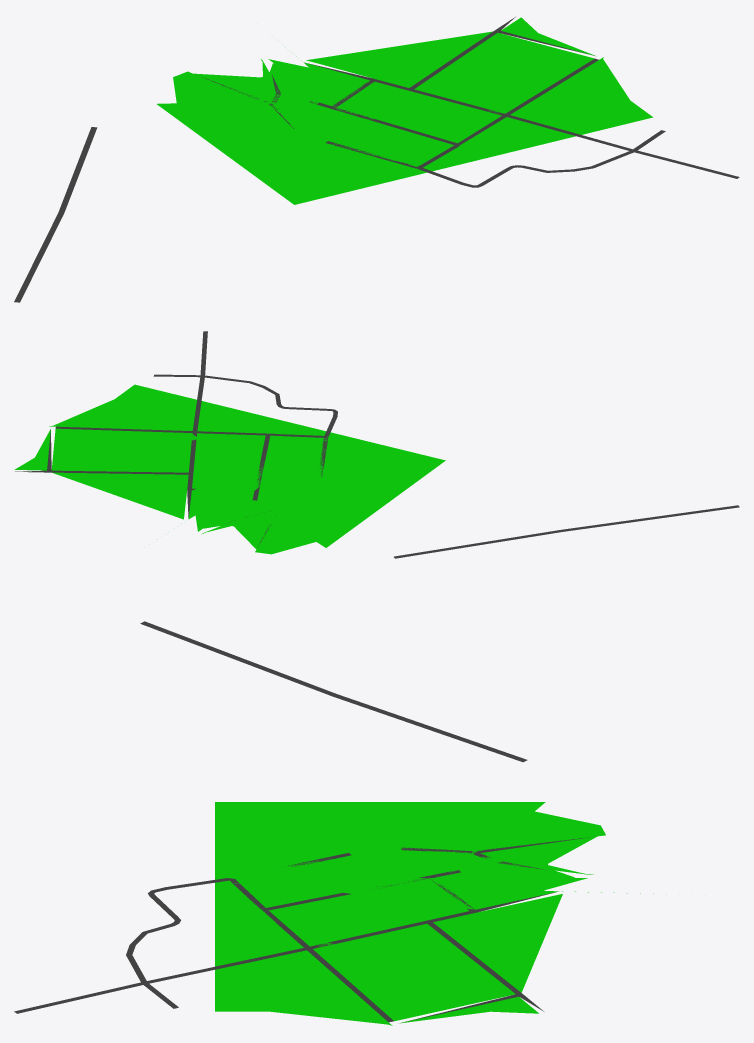
3 renders of one model, top to bottom at view 1: azimuth 30°, elevation 25°; view 2: azimuth 150°, elevation 25°; view 3: azimuth 270°, elevation 25°, orthographic. The views are drawn at different scales.
Bounding box in the file's own units: 525 × 0 × 395.
